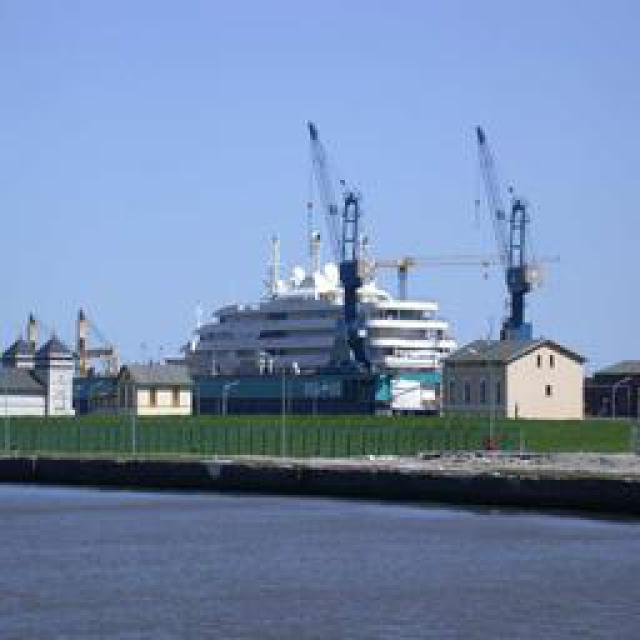Ship: (175, 107, 443, 410)
